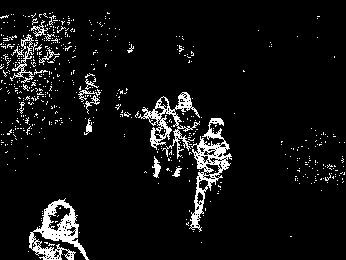person: (195, 118, 232, 234), (25, 197, 90, 260), (143, 96, 179, 181), (173, 90, 199, 165), (78, 73, 101, 137)
